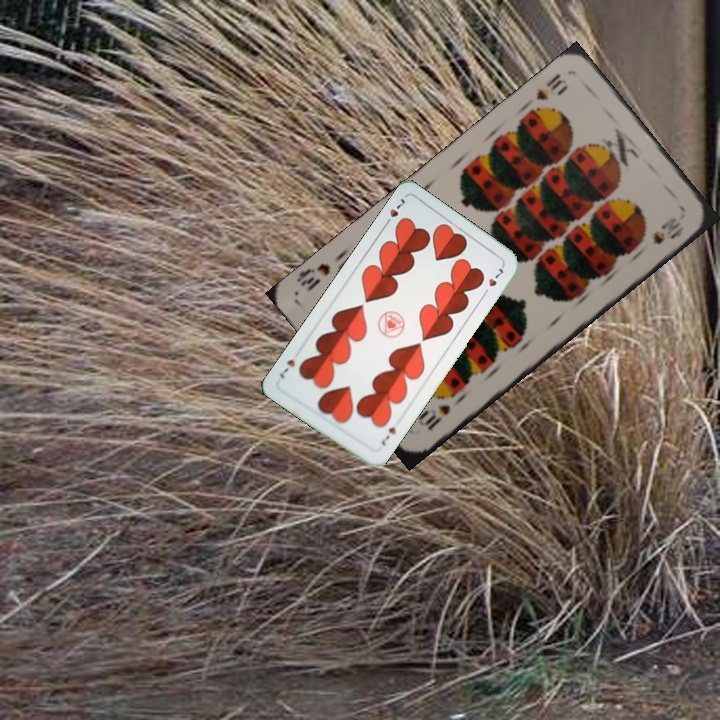H7: (380, 194, 407, 229), (376, 423, 398, 448)
S10: (532, 69, 571, 104), (415, 400, 453, 433)
